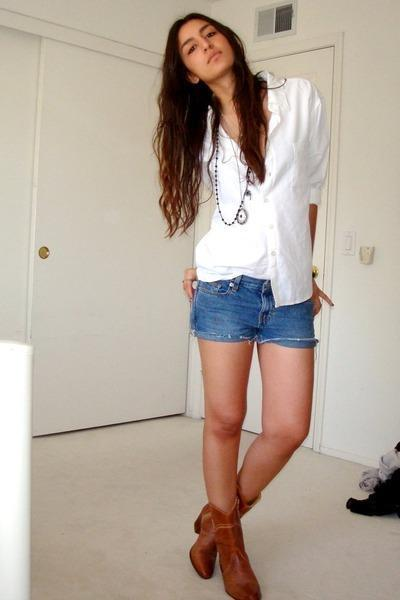shirt: (195, 65, 340, 307)
shoe: (190, 492, 261, 599)
shorts: (189, 276, 318, 349)
